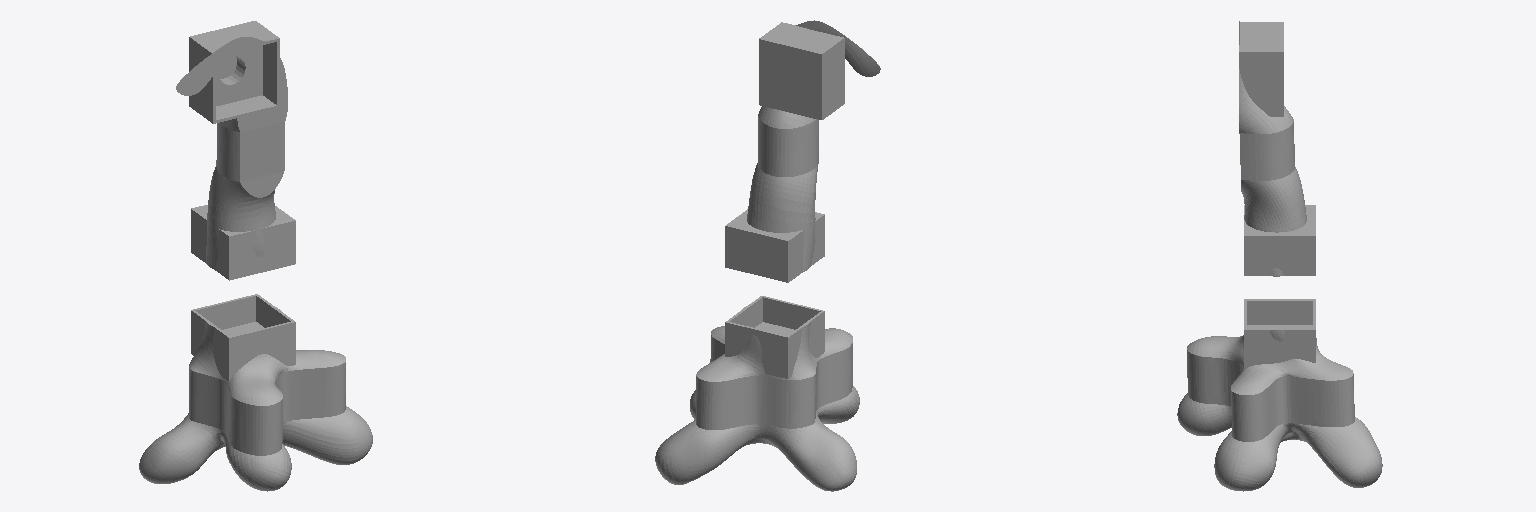
URDF robot description (FrogBot2_top-FrogBot2-y-7_bottom-FrogBot2-y-7):
<?xml version="1.0" ?>
<robot name="FrogBot2_top-FrogBot2-y-7_bottom-FrogBot2-y-7">

<material name="pla_5_percent_infill">
  <color rgba="0.700 0.700 0.700 1.000"/>
</material>

<link name="base_link">
  <inertial>
    <origin xyz="0 0 0" rpy="0 0 0"/>
    <mass value="1.3341577719423"/>
    <inertia ixx="0.0046797925109551535" iyy="0.011134478382956134" izz="0.010477176548232365" ixy="0.00012495104989682066" iyz="8.213962567094231e-05" ixz="-0.002474445058077273"/>
  </inertial>
  <visual>
    <origin xyz="0 0 0" rpy="0 0 0"/>
    <geometry>
      <mesh filename="simple_meshes/base_link.stl" scale="0.001 0.001 0.001"/>
    </geometry>
    <material name="pla_5_percent_infill"/>
  </visual>
  <collision>
    <origin xyz="0 0 0" rpy="0 0 0"/>
    <geometry>
      <mesh filename="simple_meshes/base_link.stl" scale="0.001 0.001 0.001"/>
    </geometry>
  </collision>
</link>

<link name="body_1_0_1">
  <inertial>
    <origin xyz="-0.053395 -0.09218 -0.023663" rpy="0 0 0"/>
    <mass value="0.06580957177232268"/>
    <inertia ixx="0.00012307195880210736" iyy="0.00012642282242955214" izz="2.111463792085636e-05" ixy="-1.4419686885324117e-07" iyz="7.221265691219152e-06" ixz="1.0109510635008135e-05"/>
  </inertial>
  <visual>
    <origin xyz="-0.053395 -0.09218 -0.023663" rpy="0 0 0"/>
    <geometry>
      <mesh filename="simple_meshes/body_1_0_1.stl" scale="0.001 0.001 0.001"/>
    </geometry>
    <material name="pla_5_percent_infill"/>
  </visual>
  <collision>
    <origin xyz="-0.053395 -0.09218 -0.023663" rpy="0 0 0"/>
    <geometry>
      <mesh filename="simple_meshes/body_1_0_1.stl" scale="0.001 0.001 0.001"/>
    </geometry>
  </collision>
</link>

<link name="body_1_1_1">
  <inertial>
    <origin xyz="0.095032 -0.09218 0.005345" rpy="0 0 0"/>
    <mass value="0.14560836011078057"/>
    <inertia ixx="0.00015304520631344342" iyy="0.00023734373676224116" izz="0.00013764774597796285" ixy="6.231733084381165e-06" iyz="7.3245607653176035e-06" ixz="-5.671205114273685e-05"/>
  </inertial>
  <visual>
    <origin xyz="0.095032 -0.09218 0.005345" rpy="0 0 0"/>
    <geometry>
      <mesh filename="simple_meshes/body_1_1_1.stl" scale="0.001 0.001 0.001"/>
    </geometry>
    <material name="pla_5_percent_infill"/>
  </visual>
  <collision>
    <origin xyz="0.095032 -0.09218 0.005345" rpy="0 0 0"/>
    <geometry>
      <mesh filename="simple_meshes/body_1_1_1.stl" scale="0.001 0.001 0.001"/>
    </geometry>
  </collision>
</link>

<link name="body_1_2_1">
  <inertial>
    <origin xyz="-0.041549 0.09218 -0.043945" rpy="0 0 0"/>
    <mass value="0.07108994795215803"/>
    <inertia ixx="0.00019614052486638823" iyy="0.00020107600492246116" izz="3.222629215068537e-05" ixy="1.3716411202609495e-06" iyz="-2.382534690588417e-05" ixz="2.396028156709903e-05"/>
  </inertial>
  <visual>
    <origin xyz="-0.041549 0.09218 -0.043945" rpy="0 0 0"/>
    <geometry>
      <mesh filename="simple_meshes/body_1_2_1.stl" scale="0.001 0.001 0.001"/>
    </geometry>
    <material name="pla_5_percent_infill"/>
  </visual>
  <collision>
    <origin xyz="-0.041549 0.09218 -0.043945" rpy="0 0 0"/>
    <geometry>
      <mesh filename="simple_meshes/body_1_2_1.stl" scale="0.001 0.001 0.001"/>
    </geometry>
  </collision>
</link>

<link name="body_1_3_1">
  <inertial>
    <origin xyz="0.087142 0.09218 -0.003397" rpy="0 0 0"/>
    <mass value="0.1494553798182042"/>
    <inertia ixx="0.00015790357389283954" iyy="0.0002404888858792316" izz="0.00013963723407772136" ixy="-1.0873277695268042e-05" iyz="-7.463382971120941e-06" ixz="-5.696004605491899e-05"/>
  </inertial>
  <visual>
    <origin xyz="0.087142 0.09218 -0.003397" rpy="0 0 0"/>
    <geometry>
      <mesh filename="simple_meshes/body_1_3_1.stl" scale="0.001 0.001 0.001"/>
    </geometry>
    <material name="pla_5_percent_infill"/>
  </visual>
  <collision>
    <origin xyz="0.087142 0.09218 -0.003397" rpy="0 0 0"/>
    <geometry>
      <mesh filename="simple_meshes/body_1_3_1.stl" scale="0.001 0.001 0.001"/>
    </geometry>
  </collision>
</link>

<link name="body_2_0_1">
  <inertial>
    <origin xyz="-0.065654 -0.139685 0.129558" rpy="0 0 0"/>
    <mass value="0.16778264950470162"/>
    <inertia ixx="0.000221318427738015" iyy="0.00021993217724660188" izz="0.0002721034918529326" ixy="-2.181610693026588e-05" iyz="1.3429096818930175e-05" ixz="1.0094936422251795e-05"/>
  </inertial>
  <visual>
    <origin xyz="-0.065654 -0.139685 0.129558" rpy="0 0 0"/>
    <geometry>
      <mesh filename="simple_meshes/body_2_0_1.stl" scale="0.001 0.001 0.001"/>
    </geometry>
    <material name="pla_5_percent_infill"/>
  </visual>
  <collision>
    <origin xyz="-0.065654 -0.139685 0.129558" rpy="0 0 0"/>
    <geometry>
      <mesh filename="simple_meshes/body_2_0_1.stl" scale="0.001 0.001 0.001"/>
    </geometry>
  </collision>
</link>

<link name="body_2_1_1">
  <inertial>
    <origin xyz="0.15751 -0.143533 0.129558" rpy="0 0 0"/>
    <mass value="0.11339142407704303"/>
    <inertia ixx="0.00012666484281493966" iyy="0.0001468258481440816" izz="0.00011327161689346759" ixy="-1.7423675358020294e-07" iyz="3.074890588121914e-05" ixz="1.6996606309730745e-05"/>
  </inertial>
  <visual>
    <origin xyz="0.15751 -0.143533 0.129558" rpy="0 0 0"/>
    <geometry>
      <mesh filename="simple_meshes/body_2_1_1.stl" scale="0.001 0.001 0.001"/>
    </geometry>
    <material name="pla_5_percent_infill"/>
  </visual>
  <collision>
    <origin xyz="0.15751 -0.143533 0.129558" rpy="0 0 0"/>
    <geometry>
      <mesh filename="simple_meshes/body_2_1_1.stl" scale="0.001 0.001 0.001"/>
    </geometry>
  </collision>
</link>

<link name="body_2_2_1">
  <inertial>
    <origin xyz="-0.061161 0.145934 0.129558" rpy="0 0 0"/>
    <mass value="0.14961629233584478"/>
    <inertia ixx="0.00018878703199576297" iyy="0.0002013895517886397" izz="0.0002356637512690397" ixy="1.105164443588008e-05" iyz="-5.986677373337468e-06" ixz="2.2567033116736163e-06"/>
  </inertial>
  <visual>
    <origin xyz="-0.061161 0.145934 0.129558" rpy="0 0 0"/>
    <geometry>
      <mesh filename="simple_meshes/body_2_2_1.stl" scale="0.001 0.001 0.001"/>
    </geometry>
    <material name="pla_5_percent_infill"/>
  </visual>
  <collision>
    <origin xyz="-0.061161 0.145934 0.129558" rpy="0 0 0"/>
    <geometry>
      <mesh filename="simple_meshes/body_2_2_1.stl" scale="0.001 0.001 0.001"/>
    </geometry>
  </collision>
</link>

<link name="body_2_3_1">
  <inertial>
    <origin xyz="0.160089 0.145768 0.129558" rpy="0 0 0"/>
    <mass value="0.10555316024778248"/>
    <inertia ixx="0.00013407469924395145" iyy="0.00014059134708148836" izz="0.00011026156003716894" ixy="-5.436600780834525e-06" iyz="-3.6322347224706977e-05" ixz="1.8279044352153846e-05"/>
  </inertial>
  <visual>
    <origin xyz="0.160089 0.145768 0.129558" rpy="0 0 0"/>
    <geometry>
      <mesh filename="simple_meshes/body_2_3_1.stl" scale="0.001 0.001 0.001"/>
    </geometry>
    <material name="pla_5_percent_infill"/>
  </visual>
  <collision>
    <origin xyz="0.160089 0.145768 0.129558" rpy="0 0 0"/>
    <geometry>
      <mesh filename="simple_meshes/body_2_3_1.stl" scale="0.001 0.001 0.001"/>
    </geometry>
  </collision>
</link>

<joint name="joint_1_0" type="revolute">
  <origin xyz="0.053395 0.09218 0.023663" rpy="0 0 0"/>
  <parent link="base_link"/>
  <child link="body_1_0_1"/>
  <axis xyz="0.0 0.0 -1.0"/>
  <limit upper="1.2" lower="-1.2" effort="3.8" velocity="5.4"/>
</joint>
<transmission name="joint_1_0_tran">
  <type>transmission_interface/SimpleTransmission</type>
  <joint name="joint_1_0">
    <hardwareInterface>PositionJointInterface</hardwareInterface>
  </joint>
  <actuator name="joint_1_0_actr">
    <hardwareInterface>PositionJointInterface</hardwareInterface>
    <mechanicalReduction>1</mechanicalReduction>
  </actuator>
</transmission>

<joint name="joint_1_1" type="revolute">
  <origin xyz="-0.095032 0.09218 -0.005345" rpy="0 0 0"/>
  <parent link="base_link"/>
  <child link="body_1_1_1"/>
  <axis xyz="0.0 0.0 -1.0"/>
  <limit upper="1.2" lower="-1.2" effort="3.8" velocity="5.4"/>
</joint>
<transmission name="joint_1_1_tran">
  <type>transmission_interface/SimpleTransmission</type>
  <joint name="joint_1_1">
    <hardwareInterface>PositionJointInterface</hardwareInterface>
  </joint>
  <actuator name="joint_1_1_actr">
    <hardwareInterface>PositionJointInterface</hardwareInterface>
    <mechanicalReduction>1</mechanicalReduction>
  </actuator>
</transmission>

<joint name="joint_1_2" type="revolute">
  <origin xyz="0.041549 -0.09218 0.043945" rpy="0 0 0"/>
  <parent link="base_link"/>
  <child link="body_1_2_1"/>
  <axis xyz="0.0 0.0 -1.0"/>
  <limit upper="1.2" lower="-1.2" effort="3.8" velocity="5.4"/>
</joint>
<transmission name="joint_1_2_tran">
  <type>transmission_interface/SimpleTransmission</type>
  <joint name="joint_1_2">
    <hardwareInterface>PositionJointInterface</hardwareInterface>
  </joint>
  <actuator name="joint_1_2_actr">
    <hardwareInterface>PositionJointInterface</hardwareInterface>
    <mechanicalReduction>1</mechanicalReduction>
  </actuator>
</transmission>

<joint name="joint_1_3" type="revolute">
  <origin xyz="-0.087142 -0.09218 0.003397" rpy="0 0 0"/>
  <parent link="base_link"/>
  <child link="body_1_3_1"/>
  <axis xyz="0.0 0.0 -1.0"/>
  <limit upper="1.2" lower="-1.2" effort="3.8" velocity="5.4"/>
</joint>
<transmission name="joint_1_3_tran">
  <type>transmission_interface/SimpleTransmission</type>
  <joint name="joint_1_3">
    <hardwareInterface>PositionJointInterface</hardwareInterface>
  </joint>
  <actuator name="joint_1_3_actr">
    <hardwareInterface>PositionJointInterface</hardwareInterface>
    <mechanicalReduction>1</mechanicalReduction>
  </actuator>
</transmission>

<joint name="joint_2_0" type="revolute">
  <origin xyz="0.012259 0.047505 -0.153221" rpy="0 0 0"/>
  <parent link="body_1_0_1"/>
  <child link="body_2_0_1"/>
  <axis xyz="0.0 1.0 0.0"/>
  <limit upper="1.2" lower="-1.2" effort="3.8" velocity="5.4"/>
</joint>
<transmission name="joint_2_0_tran">
  <type>transmission_interface/SimpleTransmission</type>
  <joint name="joint_2_0">
    <hardwareInterface>PositionJointInterface</hardwareInterface>
  </joint>
  <actuator name="joint_2_0_actr">
    <hardwareInterface>PositionJointInterface</hardwareInterface>
    <mechanicalReduction>1</mechanicalReduction>
  </actuator>
</transmission>

<joint name="joint_2_1" type="revolute">
  <origin xyz="-0.062478 0.051353 -0.124213" rpy="0 0 0"/>
  <parent link="body_1_1_1"/>
  <child link="body_2_1_1"/>
  <axis xyz="0.0 1.0 0.0"/>
  <limit upper="1.2" lower="-1.2" effort="3.8" velocity="5.4"/>
</joint>
<transmission name="joint_2_1_tran">
  <type>transmission_interface/SimpleTransmission</type>
  <joint name="joint_2_1">
    <hardwareInterface>PositionJointInterface</hardwareInterface>
  </joint>
  <actuator name="joint_2_1_actr">
    <hardwareInterface>PositionJointInterface</hardwareInterface>
    <mechanicalReduction>1</mechanicalReduction>
  </actuator>
</transmission>

<joint name="joint_2_2" type="revolute">
  <origin xyz="0.019612 -0.053754 -0.173503" rpy="0 0 0"/>
  <parent link="body_1_2_1"/>
  <child link="body_2_2_1"/>
  <axis xyz="0.0 1.0 0.0"/>
  <limit upper="1.2" lower="-1.2" effort="3.8" velocity="5.4"/>
</joint>
<transmission name="joint_2_2_tran">
  <type>transmission_interface/SimpleTransmission</type>
  <joint name="joint_2_2">
    <hardwareInterface>PositionJointInterface</hardwareInterface>
  </joint>
  <actuator name="joint_2_2_actr">
    <hardwareInterface>PositionJointInterface</hardwareInterface>
    <mechanicalReduction>1</mechanicalReduction>
  </actuator>
</transmission>

<joint name="joint_2_3" type="revolute">
  <origin xyz="-0.072947 -0.053588 -0.132955" rpy="0 0 0"/>
  <parent link="body_1_3_1"/>
  <child link="body_2_3_1"/>
  <axis xyz="0.0 1.0 0.0"/>
  <limit upper="1.2" lower="-1.2" effort="3.8" velocity="5.4"/>
</joint>
<transmission name="joint_2_3_tran">
  <type>transmission_interface/SimpleTransmission</type>
  <joint name="joint_2_3">
    <hardwareInterface>PositionJointInterface</hardwareInterface>
  </joint>
  <actuator name="joint_2_3_actr">
    <hardwareInterface>PositionJointInterface</hardwareInterface>
    <mechanicalReduction>1</mechanicalReduction>
  </actuator>
</transmission>

</robot>

--- Facts derived from the render (not from the file) ---
Views: 3 orthographic renders of the robot side by side, from view 1: azimuth 30°, elevation 25°; view 2: azimuth 150°, elevation 25°; view 3: azimuth 270°, elevation 25°.
Robot: FrogBot2_top-FrogBot2-y-7_bottom-FrogBot2-y-7 — 9 links, 8 joints (8 revolute); root link base_link; default pose: every joint at zero.
Links seen in each view (by area): view 1: body_2_0_1, body_1_0_1; view 2: body_2_0_1, body_1_0_1; view 3: body_2_0_1, body_1_0_1.
Link boxes in pixels (box(x1,y1,x2,y2)): body_2_0_1: box(139, 294, 372, 491); body_1_0_1: box(176, 21, 295, 280); body_2_0_1: box(655, 296, 859, 491); body_1_0_1: box(725, 20, 880, 282); body_2_0_1: box(1177, 299, 1382, 491); body_1_0_1: box(1239, 21, 1315, 276).
Bounding box of the posed robot: 0.1436 × 0.1395 × 0.3171 m (x, y, z).
2 mesh visuals loaded from 9 distinct referenced files (2 binary STL); not drawn: 7 (reference not matched to a file when rendering).